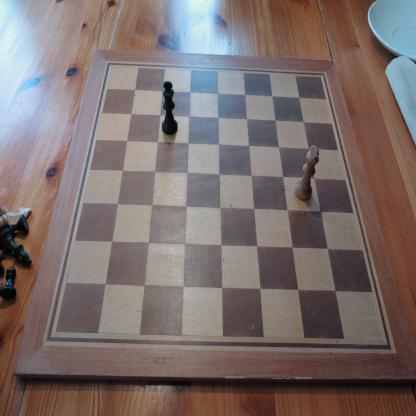black-bishop: (0, 228, 32, 266)
black-king: (161, 80, 178, 135)
black-pawn: (0, 266, 17, 301)
white-king: (294, 144, 320, 201)
white-knight: (0, 206, 32, 228)
